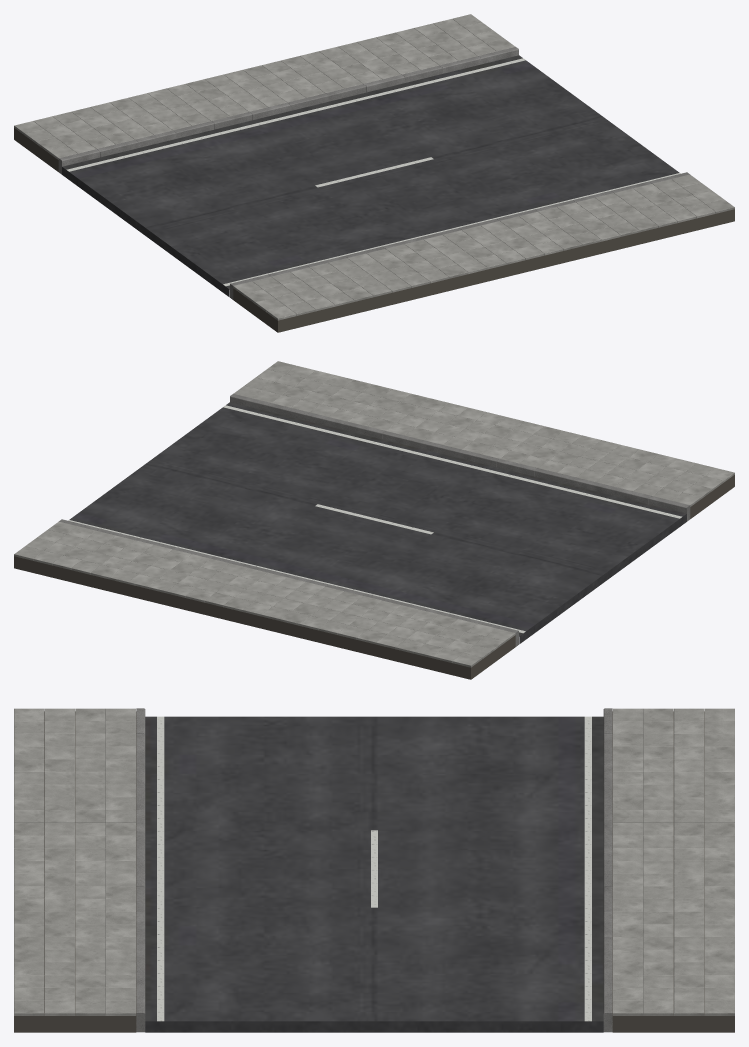
The model's file is road-straight.glb.
3 renders of one model, top to bottom at view 1: azimuth 30°, elevation 25°; view 2: azimuth 150°, elevation 25°; view 3: azimuth 270°, elevation 25°, orthographic. The views are drawn at different scales.
Parts seen in each view (by area): view 1: road-segment-straight_asphalt, road-segment-straight_paving_slabs, road-segment-straight_bedding, road-segment-straight_curb, road-segment-straight_road_marking; view 2: road-segment-straight_asphalt, road-segment-straight_paving_slabs, road-segment-straight_bedding, road-segment-straight_curb, road-segment-straight_road_marking; view 3: road-segment-straight_asphalt, road-segment-straight_paving_slabs, road-segment-straight_curb, road-segment-straight_bedding, road-segment-straight_road_marking.
Boxes of the visible parts, <box> form: road-segment-straight_asphalt: <box>62,55,679,297</box>; road-segment-straight_paving_slabs: <box>14,14,734,320</box>; road-segment-straight_bedding: <box>14,128,734,332</box>; road-segment-straight_curb: <box>58,47,689,299</box>; road-segment-straight_road_marking: <box>66,58,680,286</box>; road-segment-straight_asphalt: <box>69,402,686,644</box>; road-segment-straight_paving_slabs: <box>14,361,734,667</box>; road-segment-straight_bedding: <box>14,475,734,679</box>; road-segment-straight_curb: <box>59,394,690,646</box>; road-segment-straight_road_marking: <box>68,405,682,633</box>; road-segment-straight_asphalt: <box>145,716,603,1032</box>; road-segment-straight_paving_slabs: <box>14,708,734,1015</box>; road-segment-straight_curb: <box>136,708,612,1032</box>; road-segment-straight_bedding: <box>14,711,734,1032</box>; road-segment-straight_road_marking: <box>157,716,591,1021</box>.
Bounding box in the file's own units: 11.8 × 0.35 × 11.8.
5 materials, 4 textured.
